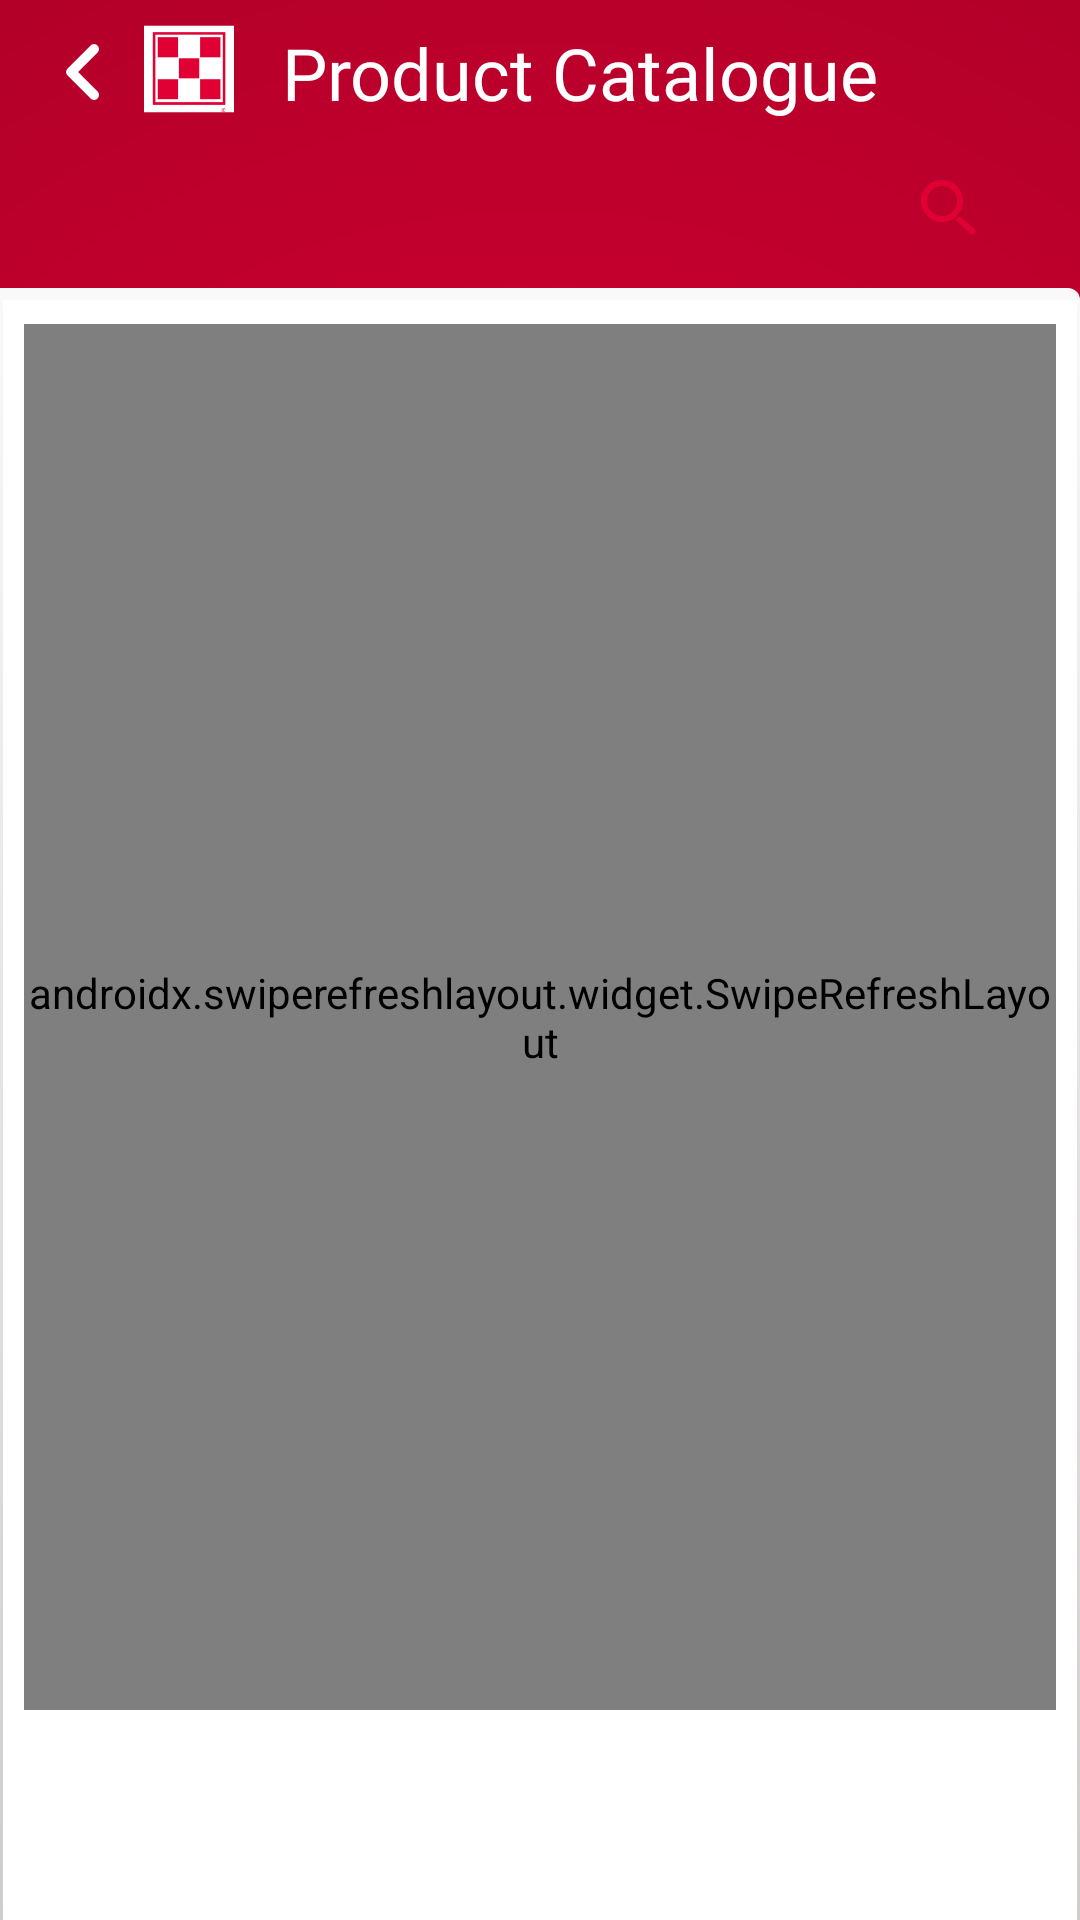

Point at icon controls on the screen. Image size 1080x1920, points as (x,y).
arrow left: (82,72)
